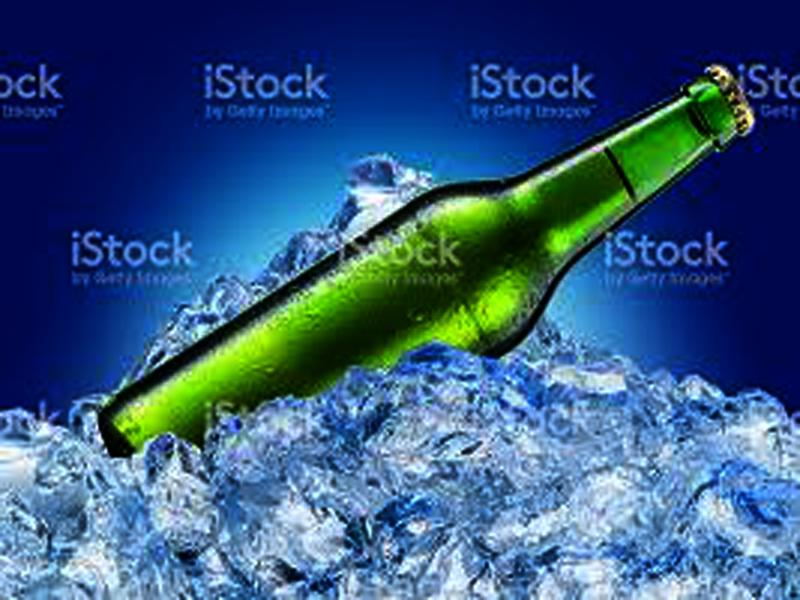Beer: (96, 60, 761, 457)
